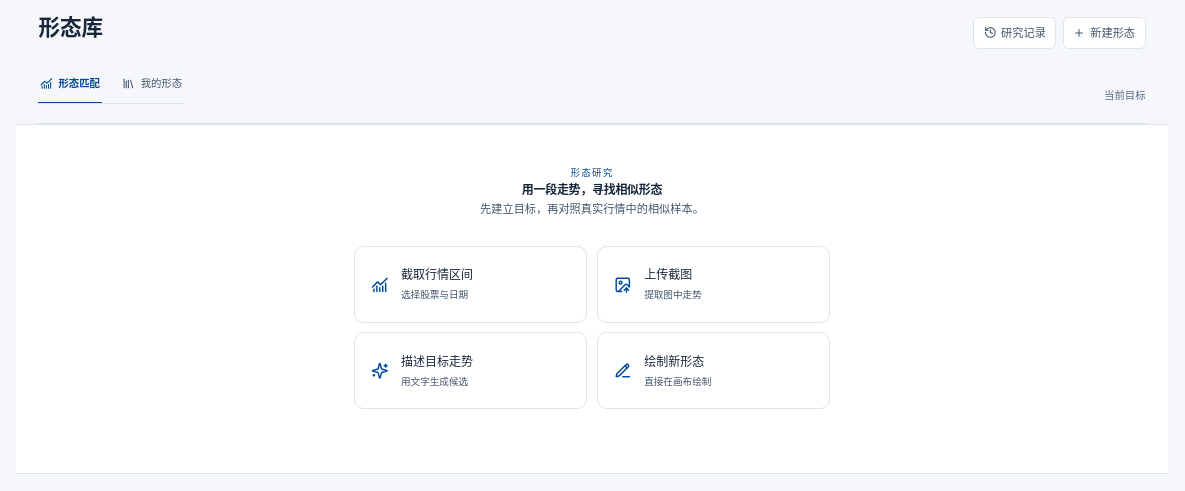
it: opens a temporary named tool for the blank starter 描述目标走势
This screenshot has width=1185, height=491.
Click the button "描述目标走势 用文字生成候选" at [470, 371], box [354, 332, 587, 409]
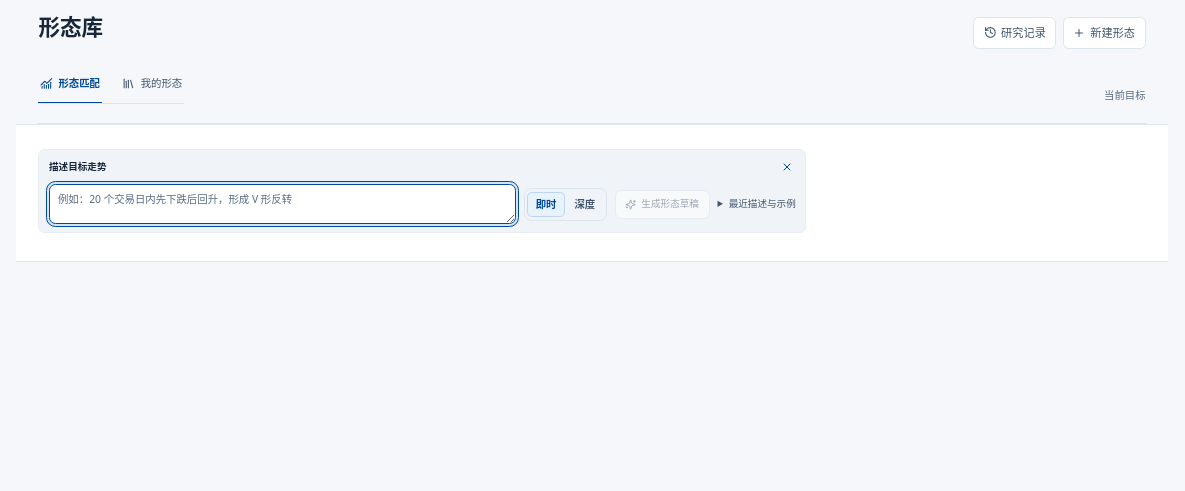
Check: the header reads "描述目标走势", box [49, 160, 107, 173]
Check: the button named "关闭输入工具" is shown
Click the button named "关闭输入工具" at [787, 167], box [777, 158, 796, 176]
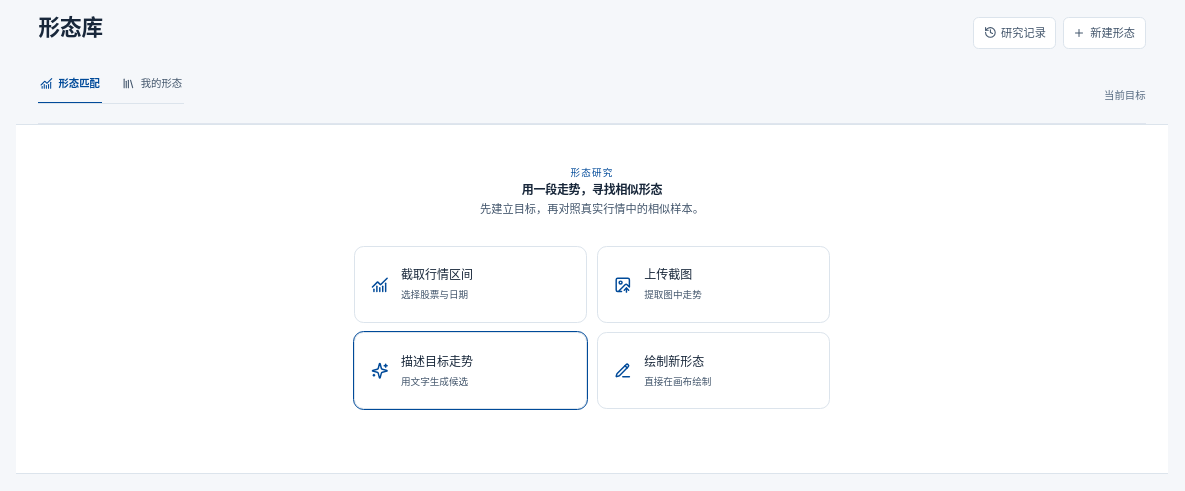
Check: the element "输入工具" is gone
